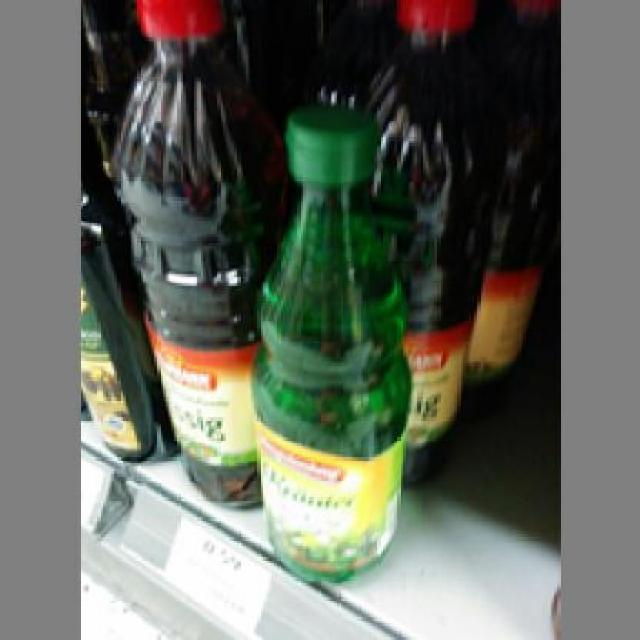Vinegar: (117, 0, 277, 523), (252, 106, 408, 588), (368, 0, 474, 497)
